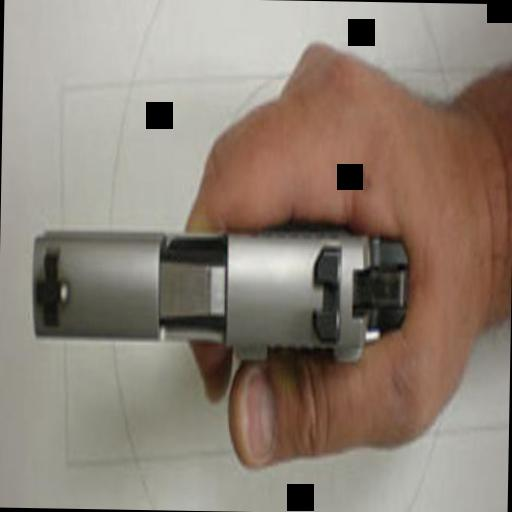Handgun: (30, 216, 410, 368)
